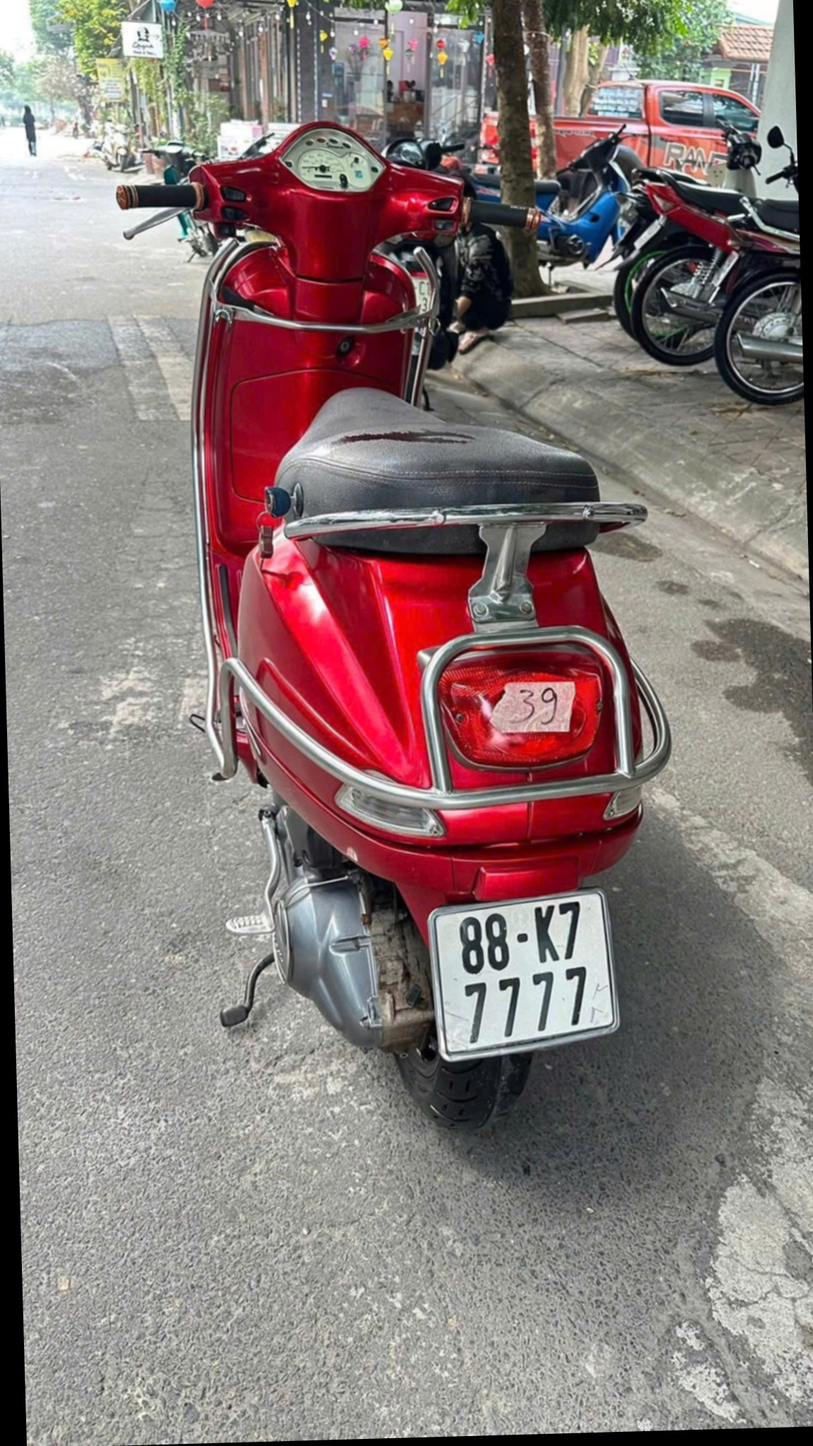Bien-so: (384, 942, 587, 1117)
